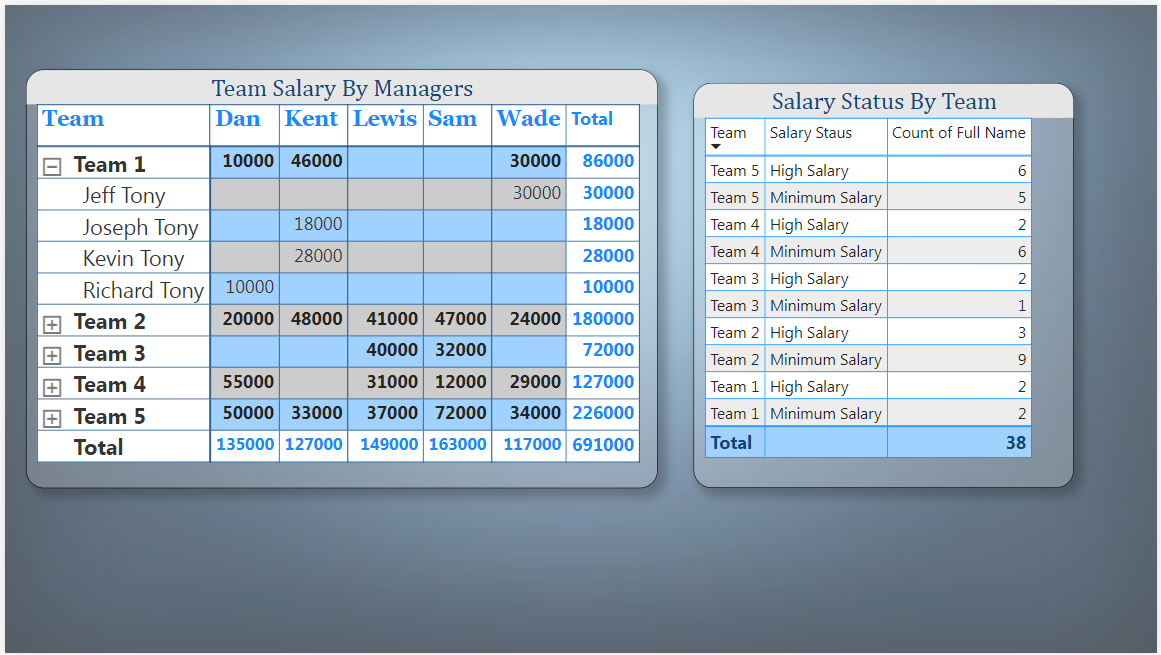

This screenshot's page, from the dashboard's own definition file:
{"tool":"powerbi","page":{"name":"Page 2","canvas":[1280,720],"ordinal":1},"visuals":[{"type":"pivotTable","title":"Team Salary By Managers","fields":{"Rows":["Data.Team","Data.Full Name"],"Values":["Sum(Data.Salary)"],"Columns":["Data.Senior Manager"]},"box":[74.7,155.8,645.3,313.1],"z":0},{"type":"tableEx","title":"Salary Status By Team","fields":{"Values":["Data.Team","Data.Salary Staus","Data.Full Name"]},"box":[764.5,87.4,422.8,449.8],"z":1000}]}

Visuals, with their boxes in screenshot pixels (x1, y1, x2, y2), scaled from the page's 1280x720 canvas onto the 1161x655 screenshot:
"Team Salary By Managers" pivotTable: bbox(68, 142, 653, 427)
"Salary Status By Team" tableEx: bbox(693, 80, 1077, 489)
